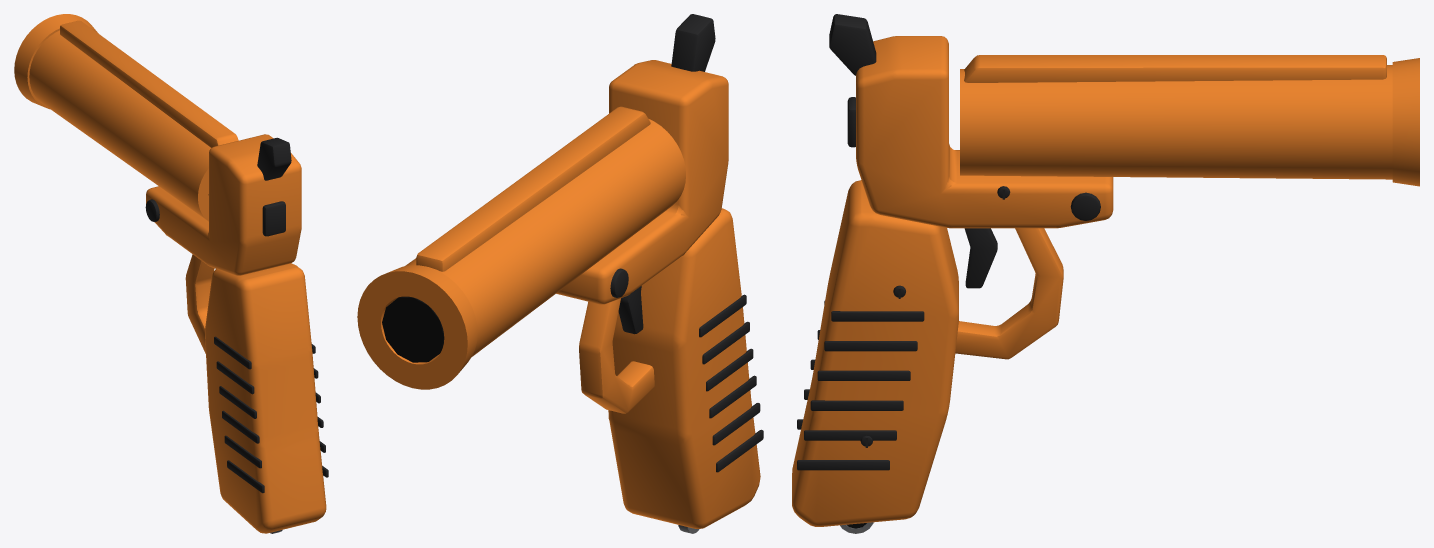
The model's file is flare_gun.glb.
3 views of the same model, side by side, from view 1: azimuth 30°, elevation 25°; view 2: azimuth 150°, elevation 25°; view 3: azimuth 270°, elevation 25° (orthographic). The views are drawn at different scales.
Parts seen in each view (by area): view 1: flare_gun; view 2: flare_gun; view 3: flare_gun.
Part boxes in pixels (bbox=[...]): flare_gun: bbox=[14, 14, 328, 533]; flare_gun: bbox=[357, 14, 763, 533]; flare_gun: bbox=[792, 14, 1419, 533].
Bounding box in the file's own units: 0.047 × 0.2068 × 0.2293.
Materials: 4 (1 with a texture image).
